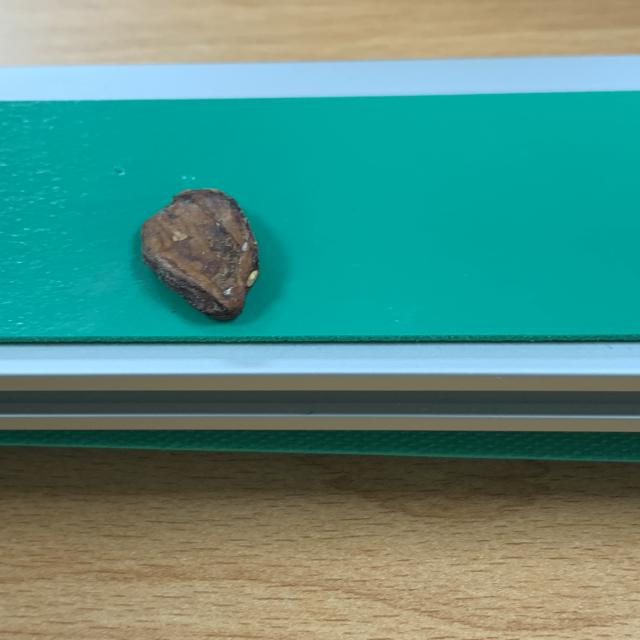Flat_cocoabeans: (84, 163, 379, 358)
